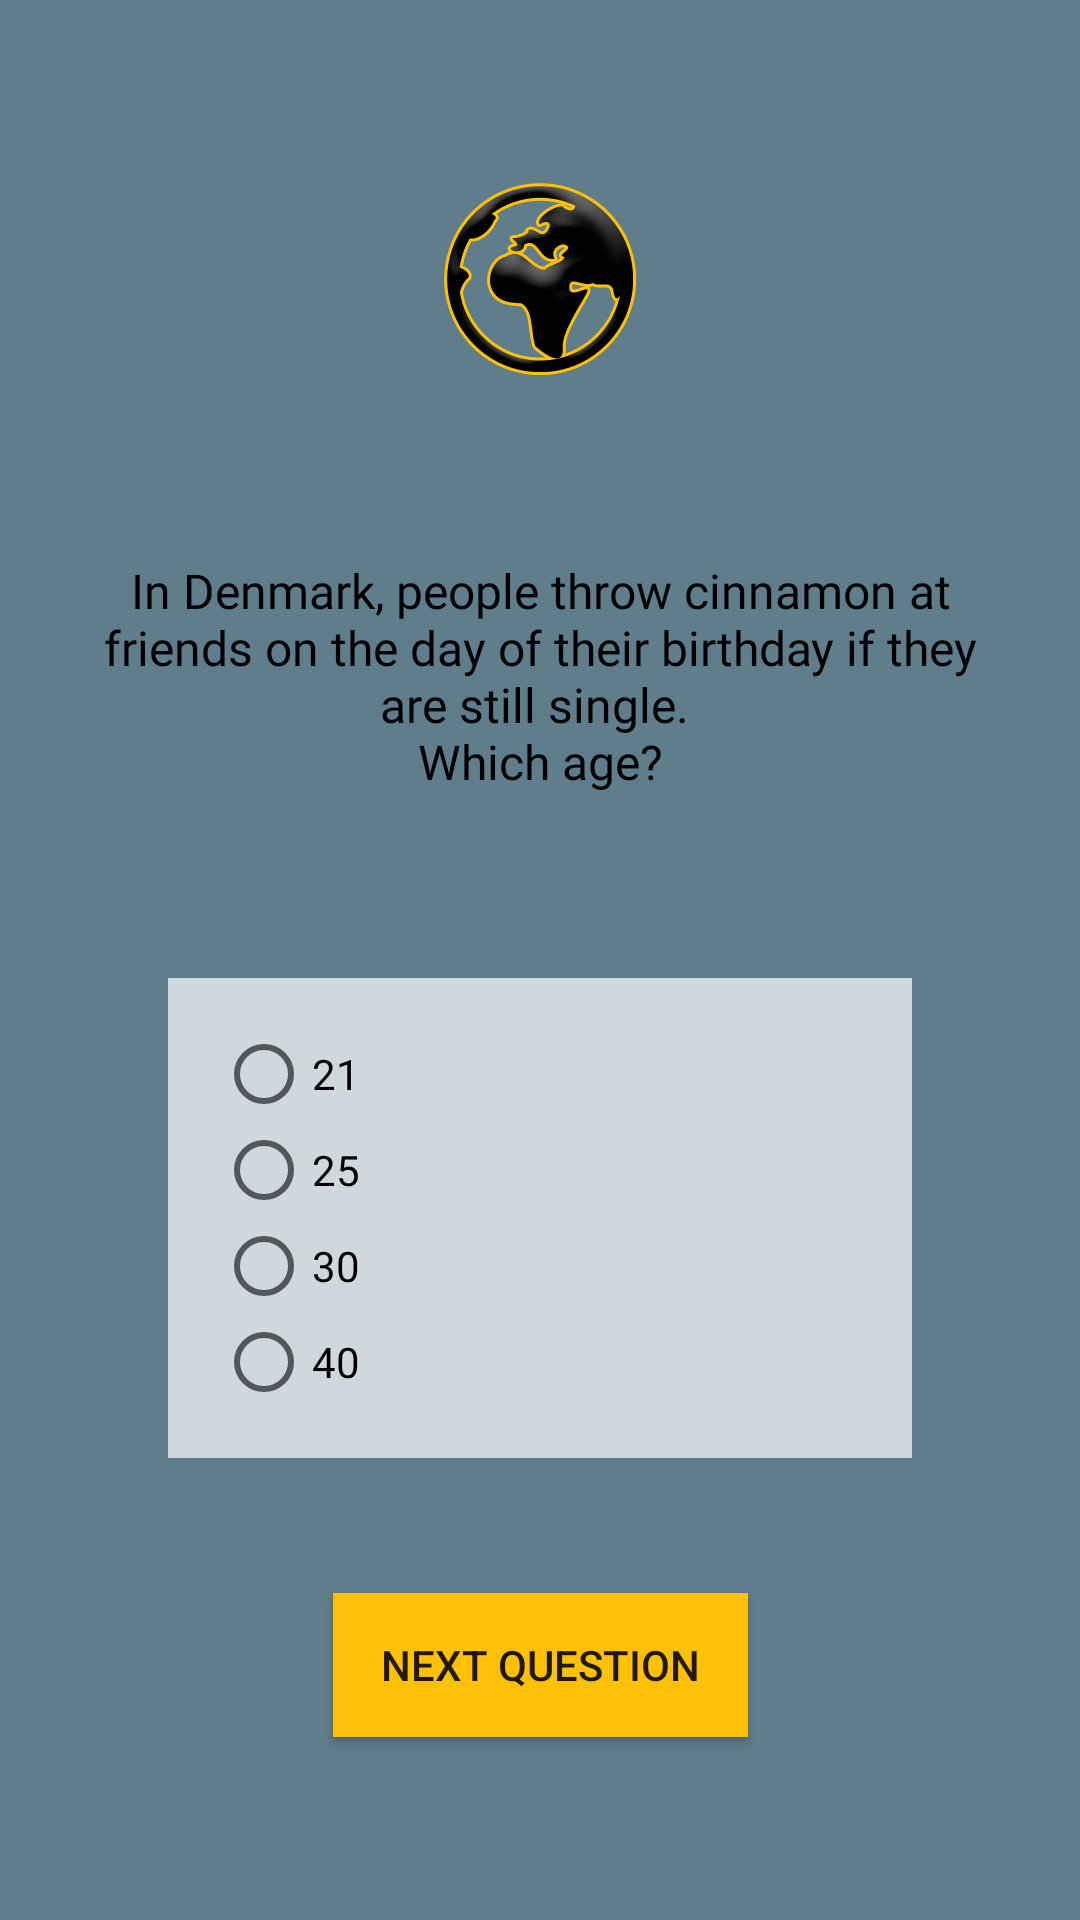

Where icons sit on this 1080px×1920px app screen, as region(x1, y1, x2, y2):
earth: region(444, 183, 636, 375)
